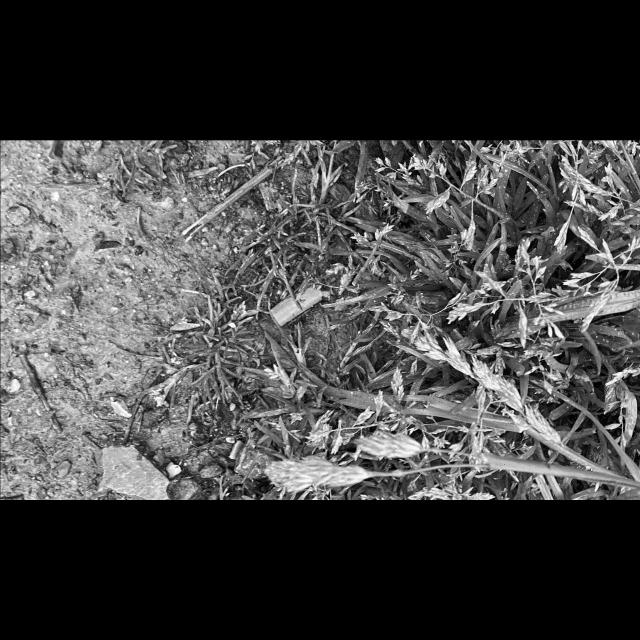cigarette: (270, 262, 352, 326)
